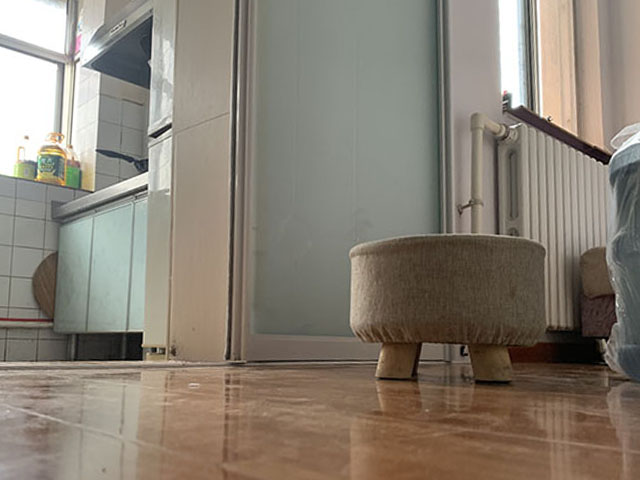cabinet: (48, 168, 151, 362)
stool: (344, 231, 549, 385)
